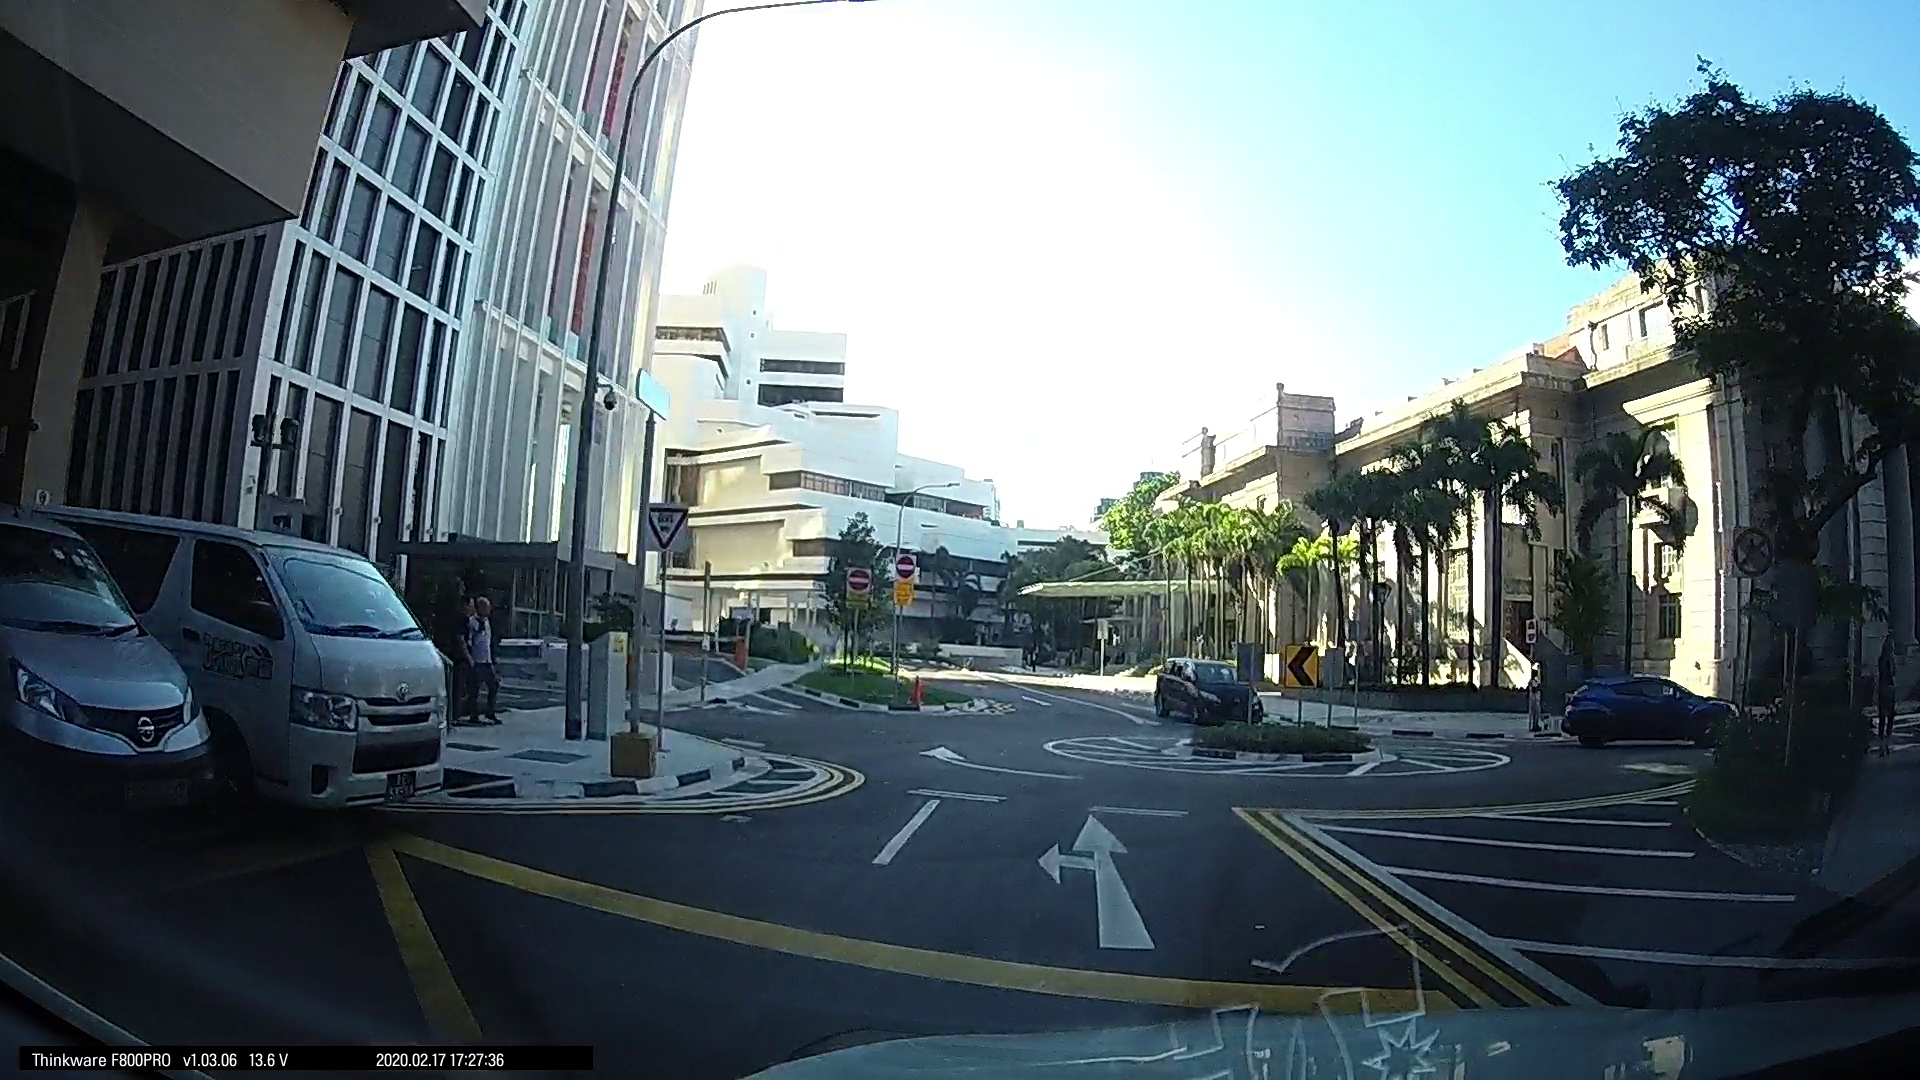Light Vehicle: (16, 508, 452, 816), (1552, 670, 1727, 745), (1149, 654, 1253, 725)
